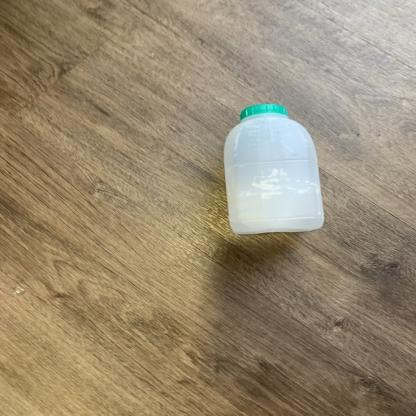trash: (221, 105, 330, 236)
